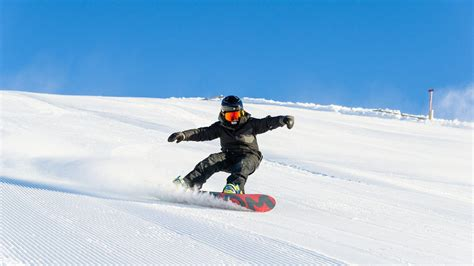snowboarder: (134, 82, 302, 218)
